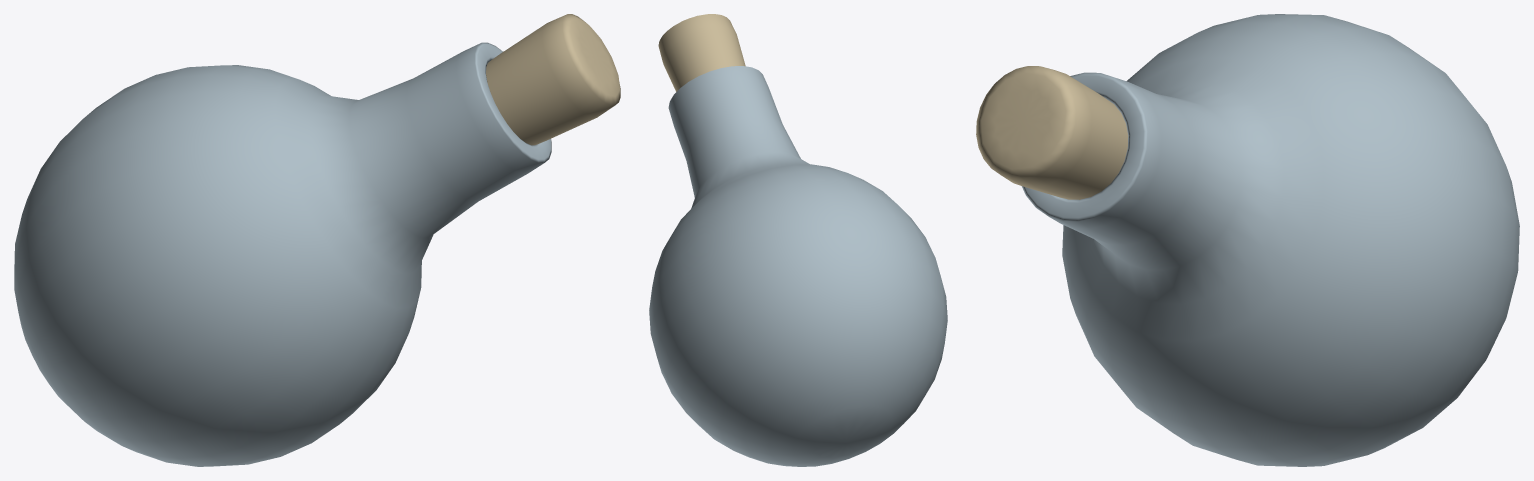
3 renders of one model, left to right at view 1: azimuth 30°, elevation 25°; view 2: azimuth 150°, elevation 25°; view 3: azimuth 270°, elevation 25°, orthographic. The views are drawn at different scales.
Visible parts, largest first — view 1: C; view 2: C; view 3: C.
Boxes of the visible parts, x1,y1,x2,y2 form: C: (14, 14, 620, 466); C: (649, 14, 947, 466); C: (976, 14, 1519, 466).
Bounding box in the file's own units: 1.18 × 1.09 × 1.05.
